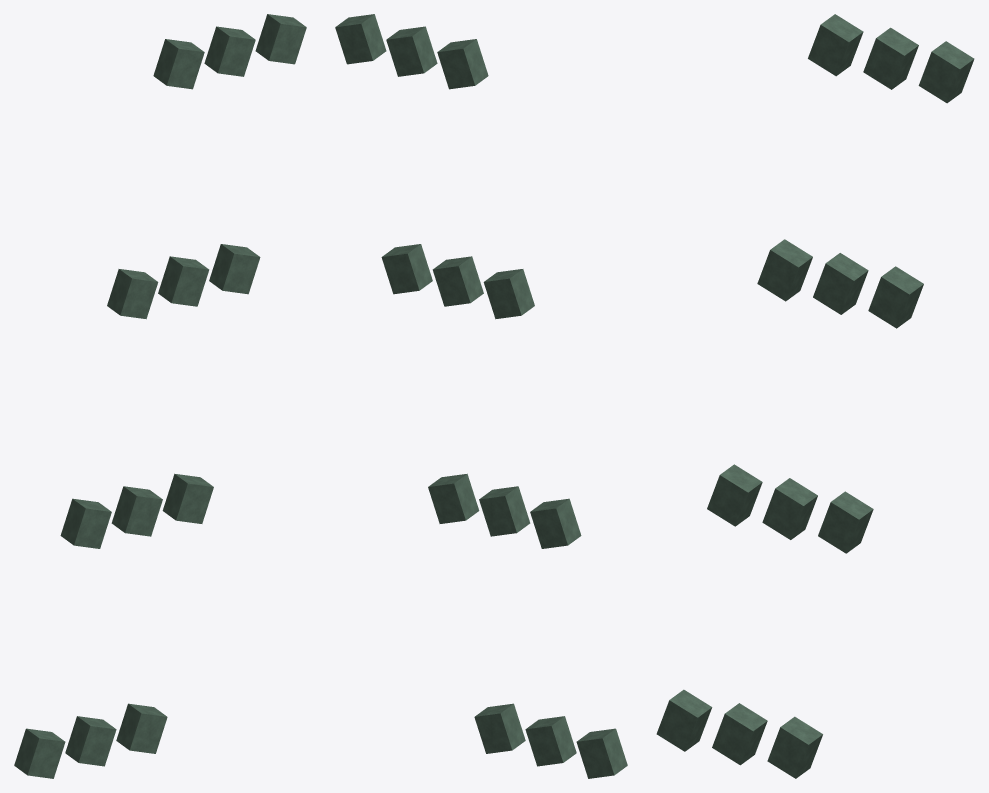
Rendered from gaogongdao_styled_green.obj.
3 renders of one model, left to right at view 1: azimuth 30°, elevation 25°; view 2: azimuth 150°, elevation 25°; view 3: azimuth 330°, elevation 25°, orthographic. The views are drawn at different scales.
Parts seen in each view (by area): view 1: harbor; view 2: harbor; view 3: harbor.
Boxes of the visible parts, <box> form: harbor: <box>14,14,306,778</box>; harbor: <box>335,14,627,778</box>; harbor: <box>656,14,974,778</box>.
Size of the model in its own units: 12.04 by 28.82 by 1.
Materials: 1 (1 with a texture image).
